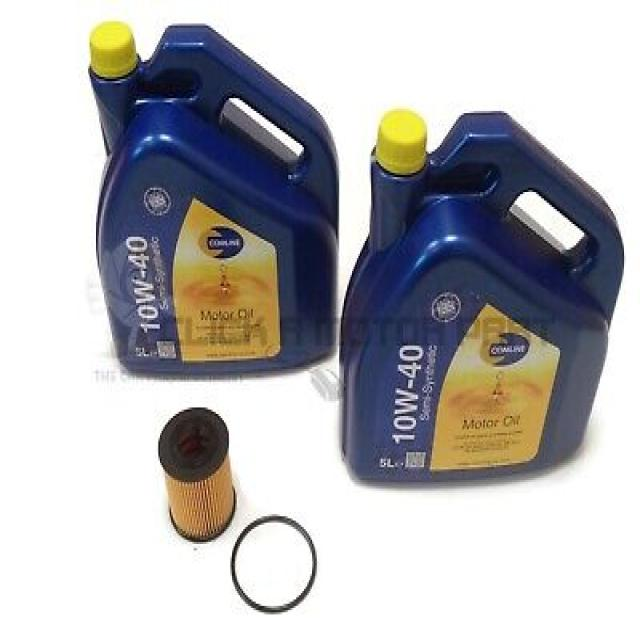motor_oil: (347, 97, 626, 491), (84, 15, 342, 389)
oil_filter: (154, 400, 242, 544)
